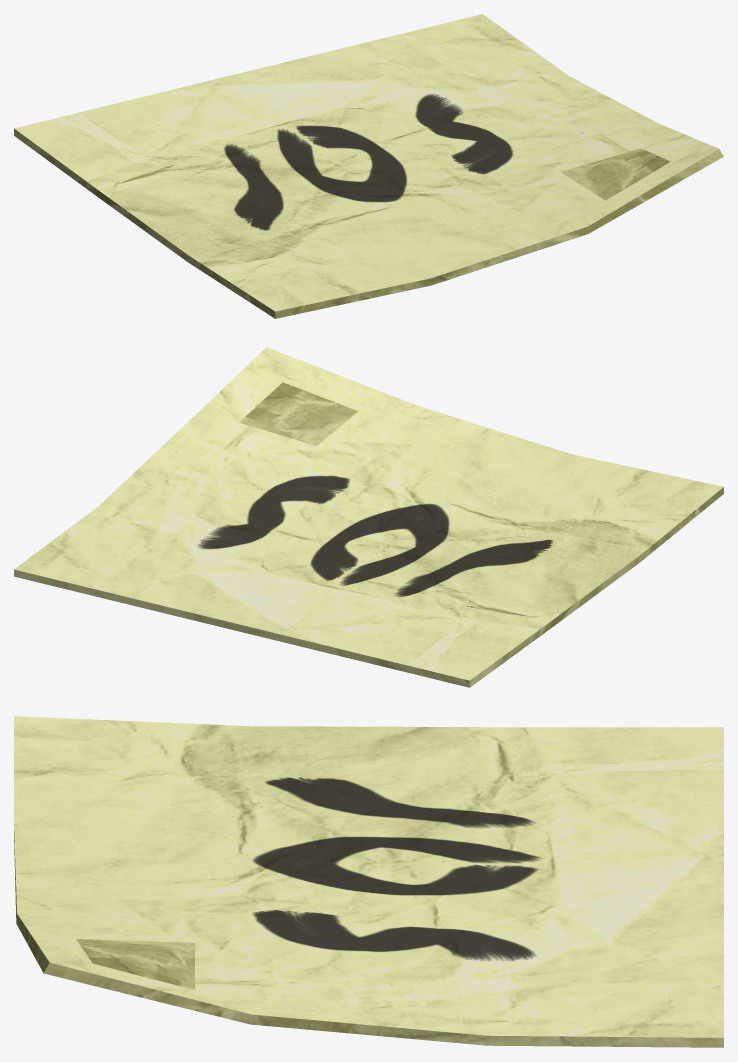
The model's file is note.fbx.
3 views of the same model, one above another, from view 1: azimuth 30°, elevation 25°; view 2: azimuth 150°, elevation 25°; view 3: azimuth 270°, elevation 25° (orthographic). The views are drawn at different scales.
Visible parts, largest first — view 1: pCube1; view 2: pCube1; view 3: pCube1.
Part boxes in pixels (box(x1,y1,x2,y2)): pCube1: box(14, 14, 723, 318); pCube1: box(14, 347, 723, 687); pCube1: box(14, 716, 723, 1047).
Size of the model in its own units: 23.95 by 2.78 by 23.06.
